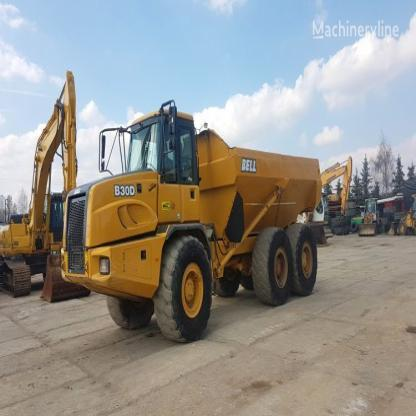dump_truck: (60, 103, 325, 334)
